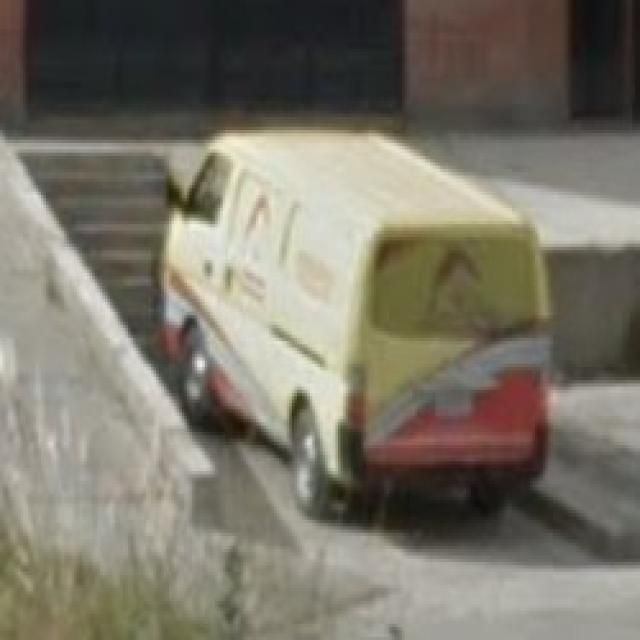Car: (164, 121, 564, 524)
